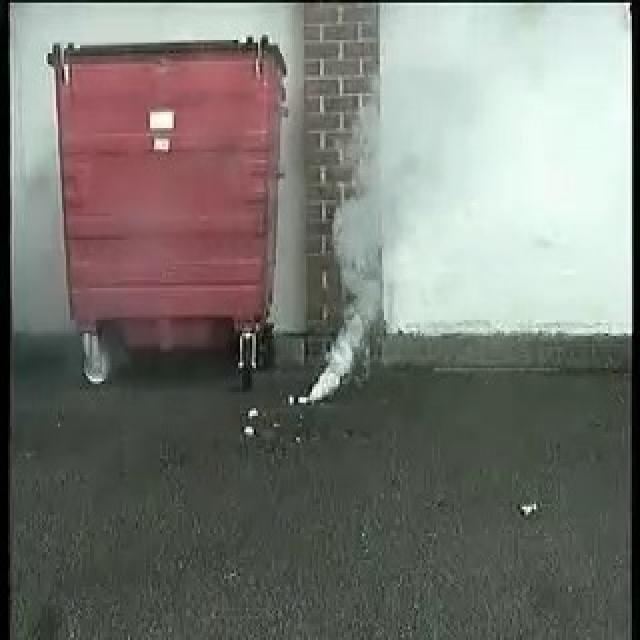smoke: (309, 154, 392, 402)
